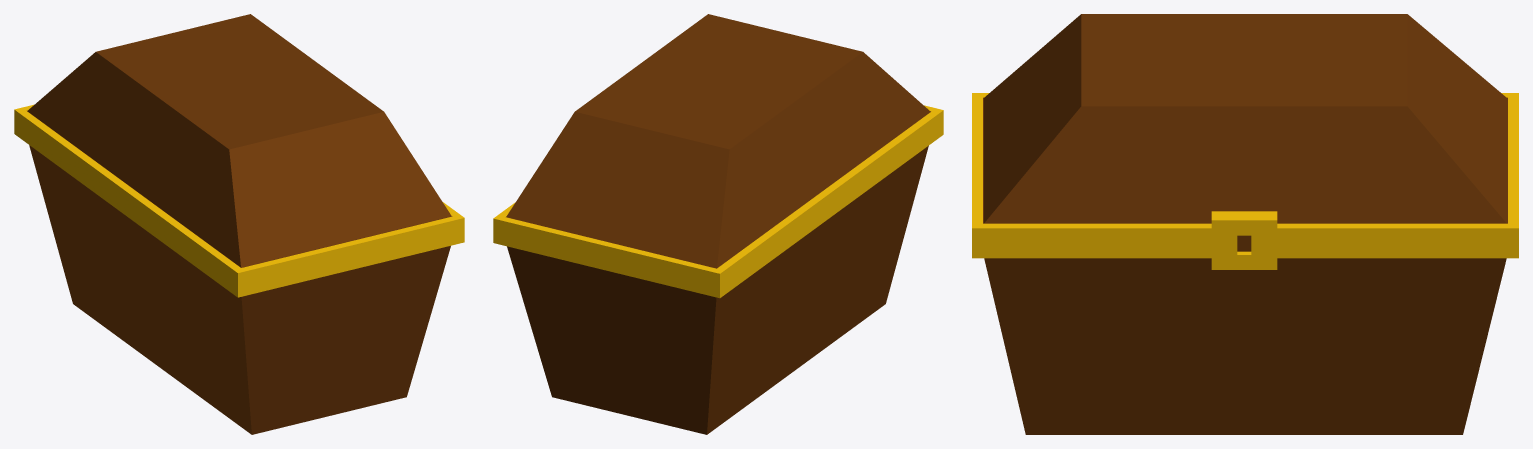
File: tesoro.fbx
The picture shows the model from 3 angles, left to right: view 1: azimuth 30°, elevation 25°; view 2: azimuth 150°, elevation 25°; view 3: azimuth 270°, elevation 25°; orthographic projection. The views are drawn at different scales.
Parts seen in each view (by area): view 1: tesoro_Cube.002; view 2: tesoro_Cube.002; view 3: tesoro_Cube.002.
Boxes of the visible parts, x1,y1,x2,y2 form: tesoro_Cube.002: [14, 14, 464, 434]; tesoro_Cube.002: [493, 14, 943, 434]; tesoro_Cube.002: [972, 14, 1518, 434].
Bounding box in the file's own units: 303 × 332 × 500.
